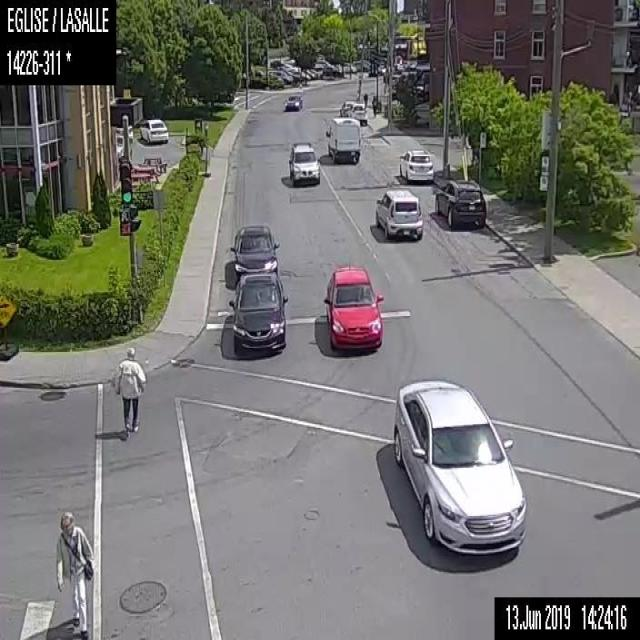construction: (0, 293, 19, 355)
pedestrian: (54, 506, 92, 638), (114, 344, 144, 437), (371, 93, 376, 116), (363, 89, 367, 108)
vehicle: (392, 376, 527, 553), (323, 261, 384, 352), (227, 271, 288, 355), (230, 223, 278, 284), (434, 179, 486, 228), (375, 187, 424, 239), (326, 117, 360, 163), (289, 142, 319, 184), (399, 147, 433, 182), (138, 115, 168, 145), (347, 102, 367, 124), (283, 94, 302, 110), (338, 99, 354, 117)
